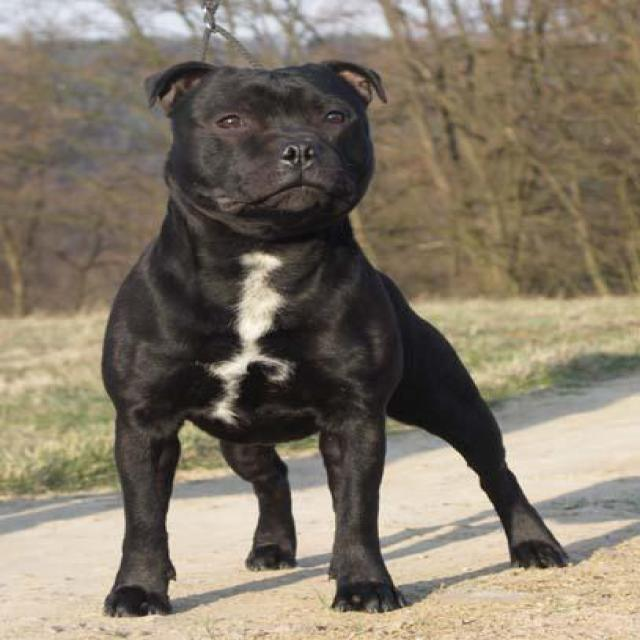staffordshire_bullterrier: (99, 60, 571, 618)
